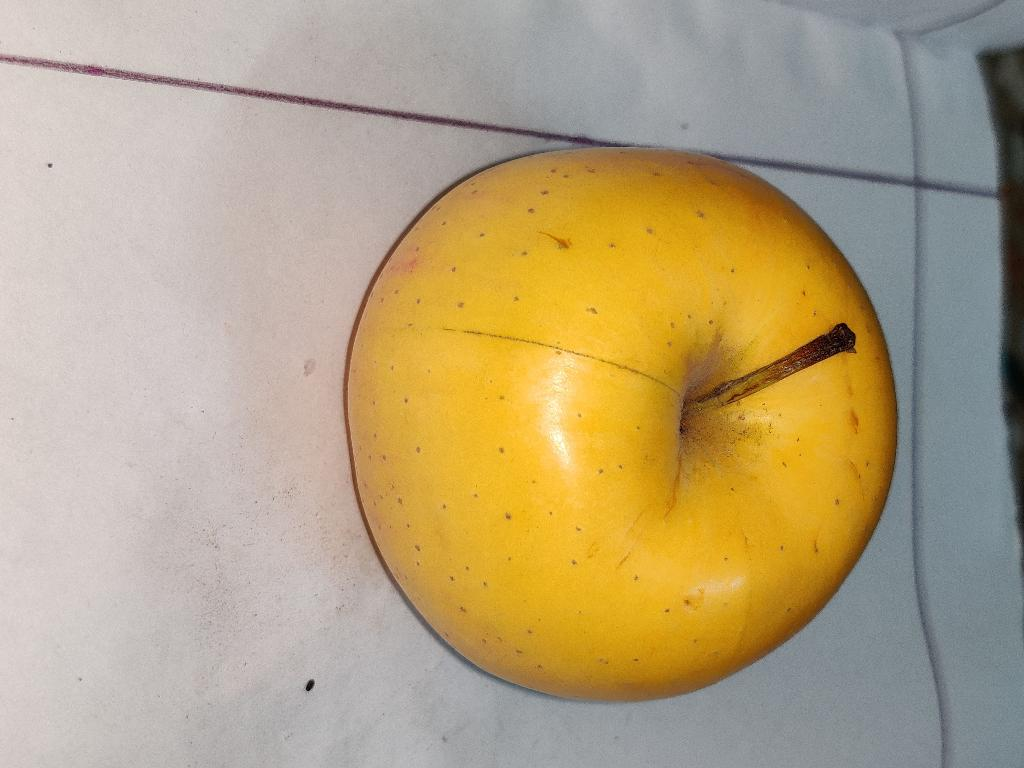apple: (345, 148, 896, 699)
